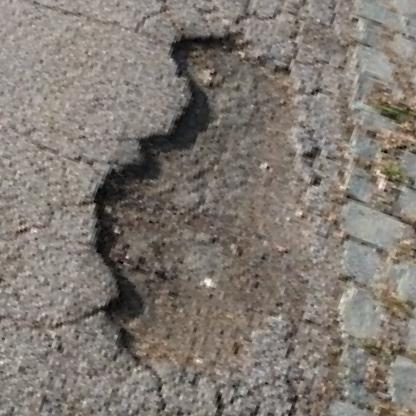pothole: (41, 6, 408, 416)
